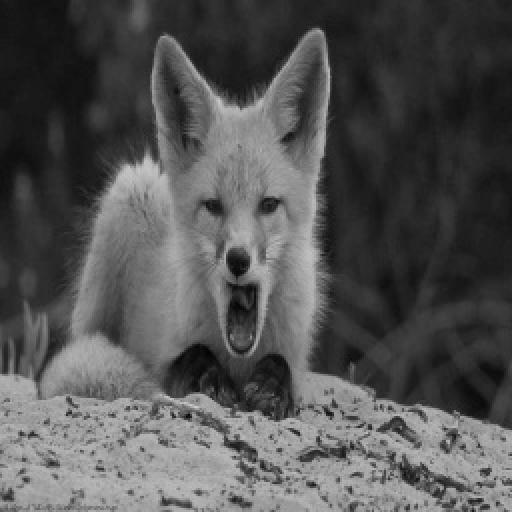zorro: (40, 30, 328, 418)
